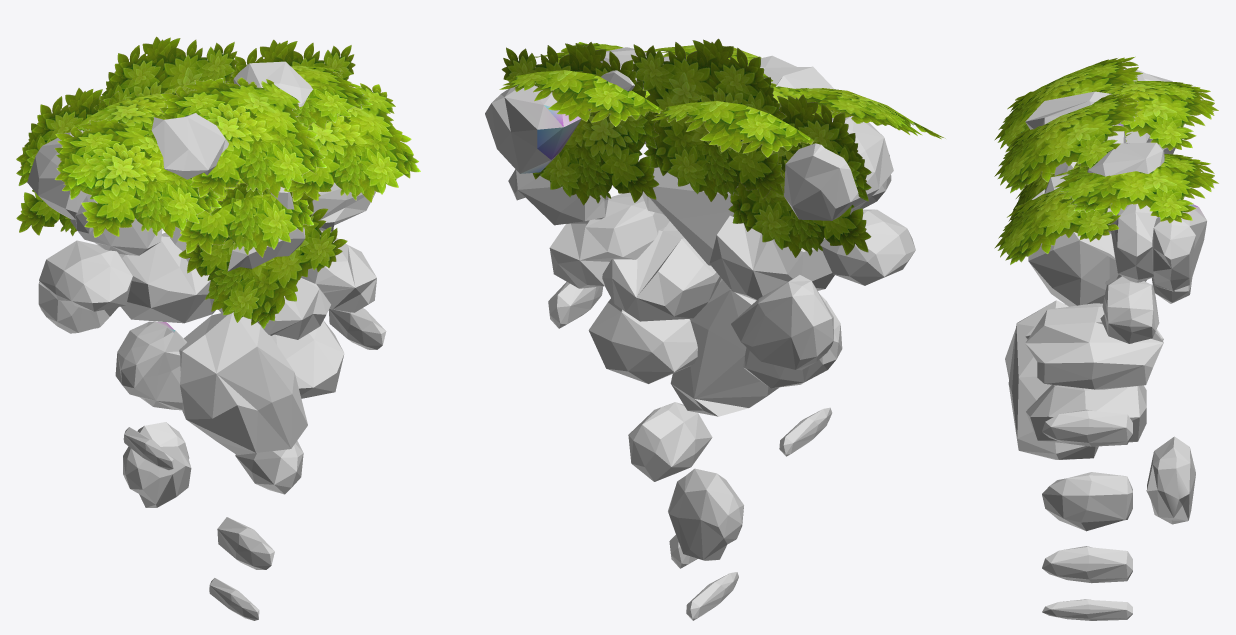
The model's file is Spikes.fbx.
3 views of the same model, side by side, from view 1: azimuth 30°, elevation 25°; view 2: azimuth 150°, elevation 25°; view 3: azimuth 270°, elevation 25° (orthographic). The views are drawn at different scales.
Visible parts, largest first — view 1: Pinches_En_Rocas_02; view 2: Pinches_En_Rocas_02; view 3: Pinches_En_Rocas_02.
Part boxes in pixels (x1,y1,x2,y2): Pinches_En_Rocas_02: (16,36,420,620); Pinches_En_Rocas_02: (485,38,945,620); Pinches_En_Rocas_02: (994,56,1218,620).
Size of what is drawn, in the model's own units: 706 by 1083 by 407.
2 materials, 1 textured.
